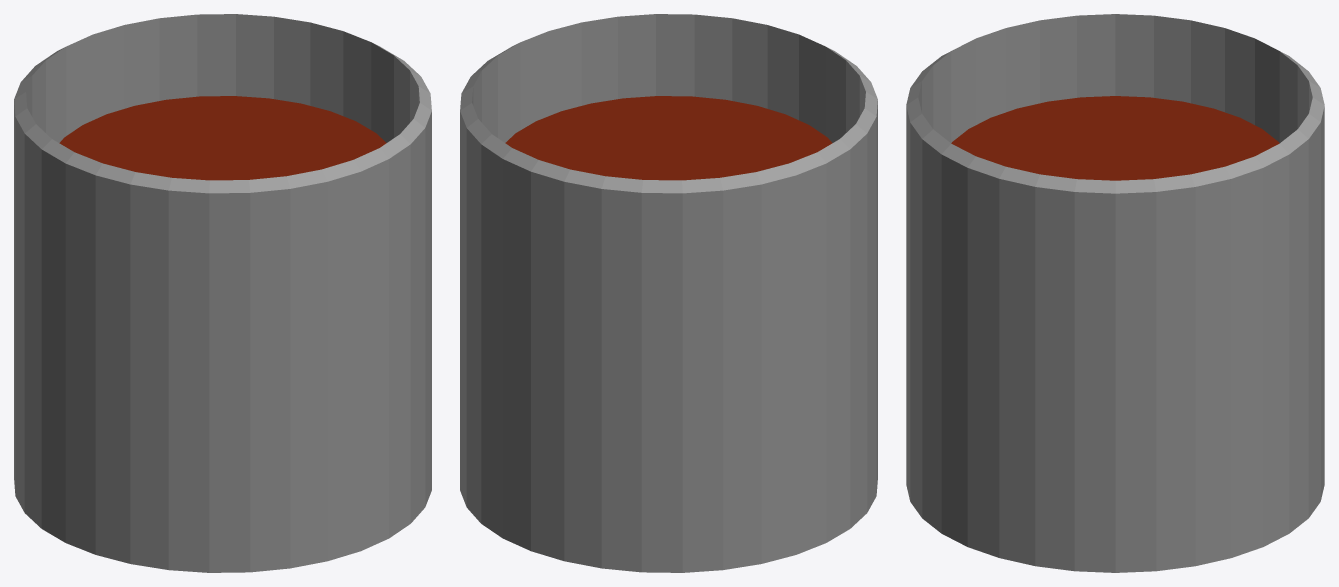
The model's file is BucketRed.fbx.
3 renders of one model, left to right at view 1: azimuth 30°, elevation 25°; view 2: azimuth 150°, elevation 25°; view 3: azimuth 270°, elevation 25°, orthographic.
Visible parts, largest first — view 1: BucketRed, BucketRedPaint; view 2: BucketRed, BucketRedPaint; view 3: BucketRed, BucketRedPaint.
Part boxes in pixels (left/top/right/bottom): BucketRed: left=14, top=14, right=431, bottom=572; BucketRedPaint: left=59, top=96, right=386, bottom=180; BucketRed: left=460, top=14, right=877, bottom=572; BucketRedPaint: left=505, top=96, right=832, bottom=180; BucketRed: left=906, top=14, right=1324, bottom=572; BucketRedPaint: left=951, top=96, right=1279, bottom=180.
Bounding box in the file's own units: 37.32 × 37.32 × 38.73.
